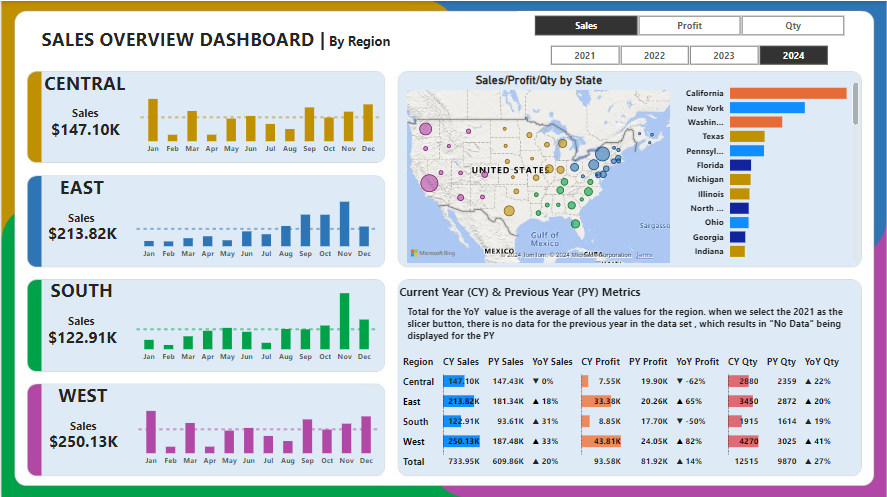

What the dashboard file says about the page in this screenshot:
{"tool":"powerbi","page":{"name":"Sales Overview Dashboard","canvas":[1280,720],"ordinal":0},"visuals":[{"type":"slicer","fields":{"Values":["Select Metric.Select Metric"]},"box":[745.8,15.1,497.2,42],"z":0},{"type":"card","fields":{"Values":["Sales Data.Total Sales"]},"box":[65.6,164.4,113.3,42.2],"z":1000},{"type":"textbox","box":[46.7,93.3,150,53.3],"z":2000},{"type":"slicer","fields":{"Values":["Calender Table.Year"]},"box":[769.3,57.1,450.2,35.3],"z":3000},{"type":"card","fields":{"Values":["Sales Data.Dynamic Title"]},"box":[72.2,146.7,98.9,34.4],"z":4000},{"type":"clusteredColumnChart","fields":{"Y":["Sales Data.Total Sales"],"Category":["Calender Table.Month"]},"box":[196.5,104.1,357.8,127.7],"z":5000},{"type":"textbox","box":[47,30.2,525.8,53.8],"z":6000},{"type":"card","fields":{"Values":["Sales Data.Total Sales"]},"box":[60.4,315.5,113.3,42.2],"z":7000},{"type":"textbox","box":[41.5,244.4,150,53.3],"z":8000},{"type":"card","fields":{"Values":["Sales Data.Dynamic Title"]},"box":[67.1,297.8,98.9,34.4],"z":9000},{"type":"clusteredColumnChart","fields":{"Y":["Sales Data.Total Sales"],"Category":["Calender Table.Month"]},"box":[191.4,255.2,357.8,127.7],"z":10000},{"type":"card","fields":{"Values":["Sales Data.Total Sales"]},"box":[60.4,465,113.3,42.2],"z":11000},{"type":"textbox","box":[41.5,393.9,150,53.3],"z":12000},{"type":"card","fields":{"Values":["Sales Data.Dynamic Title"]},"box":[67,447.2,98.9,34.4],"z":13000},{"type":"clusteredColumnChart","fields":{"Y":["Sales Data.Total Sales"],"Category":["Calender Table.Month"]},"box":[191.3,404.7,357.8,127.7],"z":14000},{"type":"card","fields":{"Values":["Sales Data.Total Sales"]},"box":[62,616.2,113.3,42.2],"z":15000},{"type":"textbox","box":[43.1,545,150,53.3],"z":16000},{"type":"card","fields":{"Values":["Sales Data.Dynamic Title"]},"box":[68.7,598.4,98.9,34.4],"z":17000},{"type":"clusteredColumnChart","fields":{"Y":["Sales Data.Total Sales"],"Category":["Calender Table.Month"]},"box":[193,555.9,357.8,127.7],"z":18000},{"type":"map","title":"Sales/Profit/Qty by State","fields":{"Size":["Sales Data.Total Sales"],"Category":["Sales Data.State/Province"],"Series":["Sales Data.Region"]},"box":[582.8,104,389.9,279.8],"z":19000},{"type":"barChart","fields":{"Y":["Sales Data.Total Sales"],"Category":["Sales Data.State/Province"],"Series":["Sales Data.Region"]},"box":[972.7,104,271.7,279.8],"z":20000},{"type":"pivotTable","fields":{"Rows":["Sales Data.Region"],"Values":["Sales Data.CY Sales","Sales Data.PY Sales","Sales Data.YoY Sales","Sales Data.CY Profit","Sales Data.PY Profit","Sales Data.YoY Profit","Sales Data.CY Qty","Sales Data.PY Qty","Sales Data.YoY Qty"]},"box":[571.7,506.7,688.3,178.3],"z":21000},{"type":"textbox","box":[571.7,405,366.7,46.7],"z":22000},{"type":"textbox","box":[583.3,435,658.3,66.7],"z":23000}]}

Visuals, with their boxes in screenshot pixels (x1, y1, x2, y2), scaled from the page's 1280x720 canvas onto the 887x497 screenshot:
slicer - Select Metric.Select Metric: box=[517, 10, 861, 39]
card - Sales Data.Total Sales: box=[45, 113, 124, 143]
textbox: box=[32, 64, 136, 101]
slicer - Calender Table.Year: box=[533, 39, 845, 64]
card - Sales Data.Dynamic Title: box=[50, 101, 119, 125]
clusteredColumnChart - Sales Data.Total Sales x Calender Table.Month: box=[136, 72, 384, 160]
textbox: box=[33, 21, 397, 58]
card - Sales Data.Total Sales: box=[42, 218, 120, 247]
textbox: box=[29, 169, 133, 205]
card - Sales Data.Dynamic Title: box=[46, 206, 115, 229]
clusteredColumnChart - Sales Data.Total Sales x Calender Table.Month: box=[133, 176, 381, 264]
card - Sales Data.Total Sales: box=[42, 321, 120, 350]
textbox: box=[29, 272, 133, 309]
card - Sales Data.Dynamic Title: box=[46, 309, 115, 332]
clusteredColumnChart - Sales Data.Total Sales x Calender Table.Month: box=[133, 279, 381, 368]
card - Sales Data.Total Sales: box=[43, 425, 121, 454]
textbox: box=[30, 376, 134, 413]
card - Sales Data.Dynamic Title: box=[48, 413, 116, 437]
clusteredColumnChart - Sales Data.Total Sales x Calender Table.Month: box=[134, 384, 382, 472]
"Sales/Profit/Qty by State" map: box=[404, 72, 674, 265]
barChart - Sales Data.Total Sales x Sales Data.State/Province: box=[674, 72, 862, 265]
pivotTable - Sales Data.Region x Sales Data.CY Sales: box=[396, 350, 873, 473]
textbox: box=[396, 280, 650, 312]
textbox: box=[404, 300, 860, 346]
